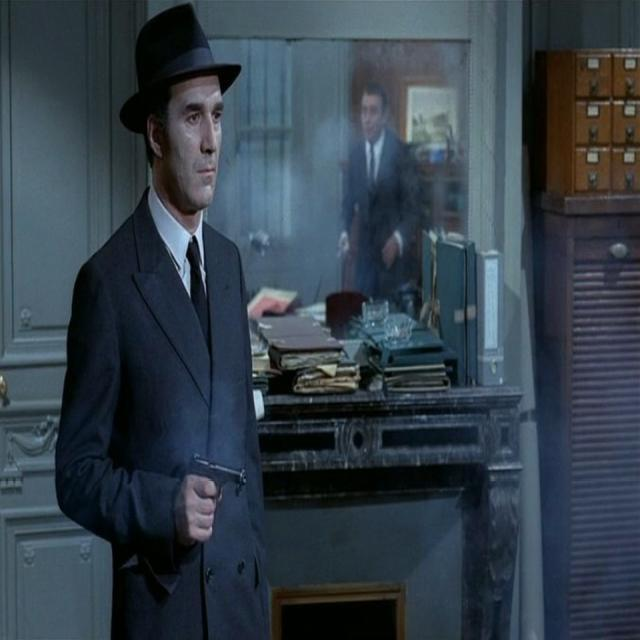gun-knife-thesis - v11 Yolov5 augmented: (180, 448, 248, 549)
